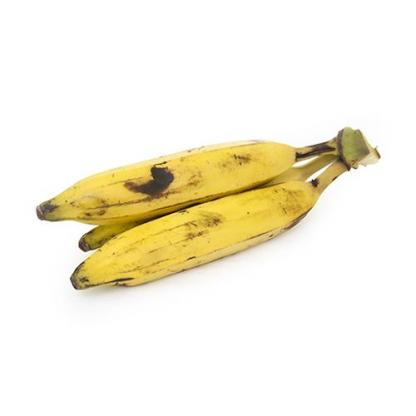banana: (72, 182, 332, 295), (36, 136, 306, 230)
